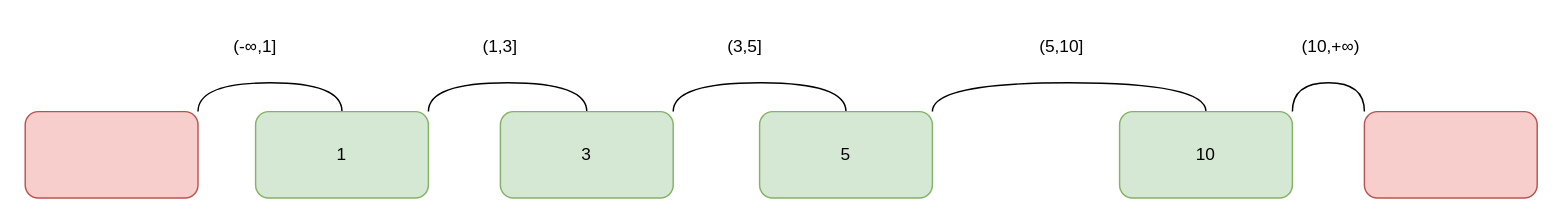
Image size: 1562x223. Some labels were removed from this diagram. The box of each missing label's shape, as (x1, y1, x2, y2) in pixels:
infimum pseudo-record: (24, 110, 198, 198)
supremum pseudo-record: (1363, 110, 1537, 198)
